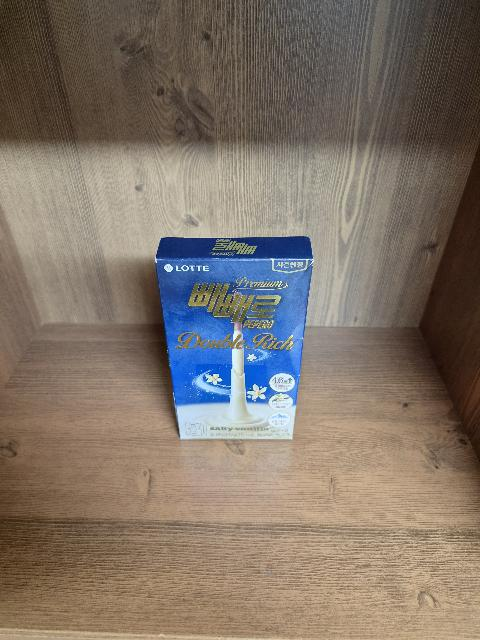pepero: (155, 236, 314, 440)
